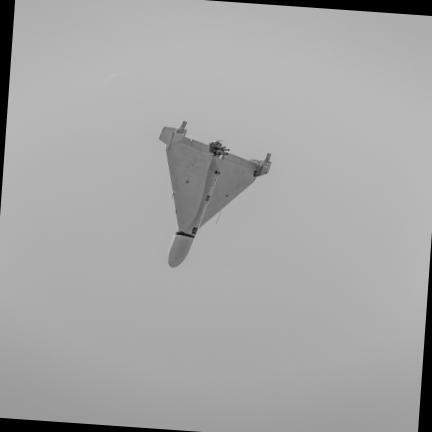Shahed: (160, 123, 270, 267)
